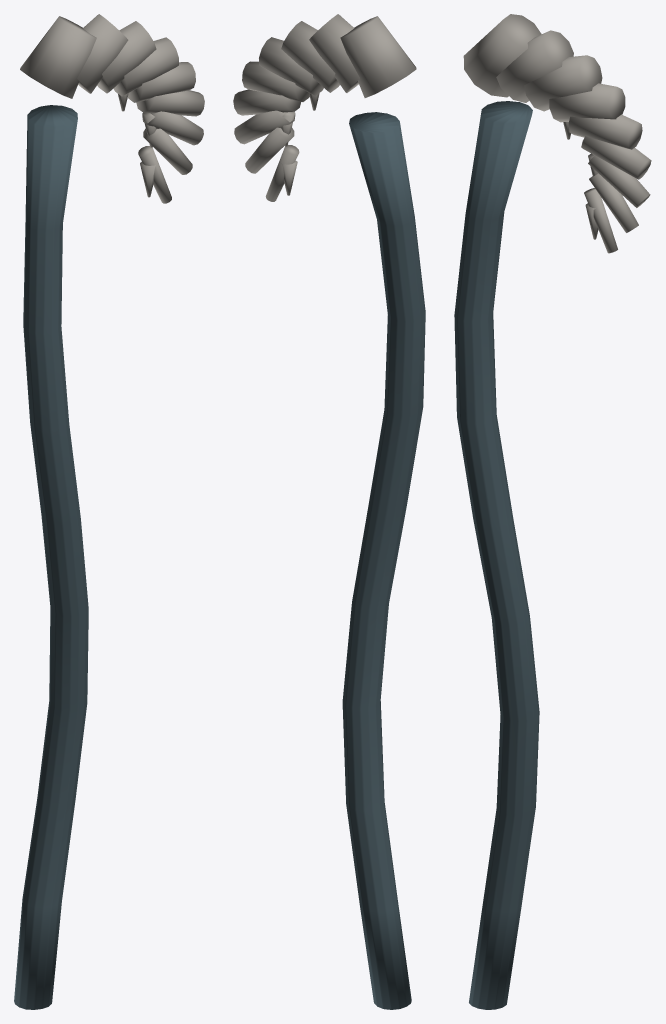
File: SM_GnarledStaff.fbx
3 views of the same model, side by side, from view 1: azimuth 30°, elevation 25°; view 2: azimuth 150°, elevation 25°; view 3: azimuth 330°, elevation 25° (orthographic). The views are drawn at different scales.
Visible parts, largest first — view 1: Cylinder; view 2: Cylinder; view 3: Cylinder.
Part boxes in pixels (x1,y1,x2,y2): Cylinder: (14,14,204,1009); Cylinder: (233,14,425,1009); Cylinder: (454,14,651,1009).
Size of the model in its own units: 0.155 by 0.4537 by 2.33.
